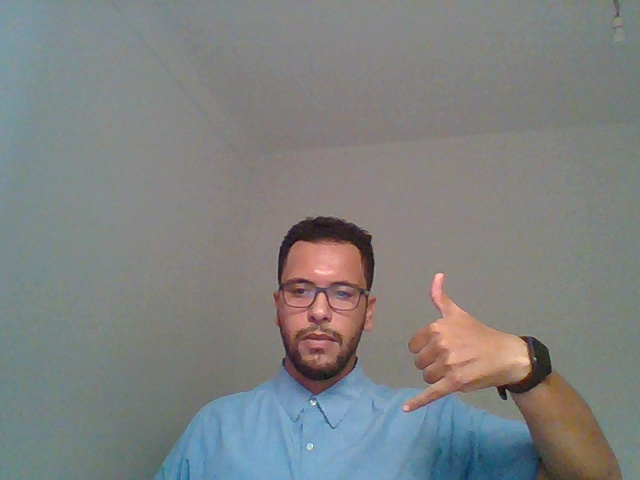callme: (389, 252, 536, 447)
